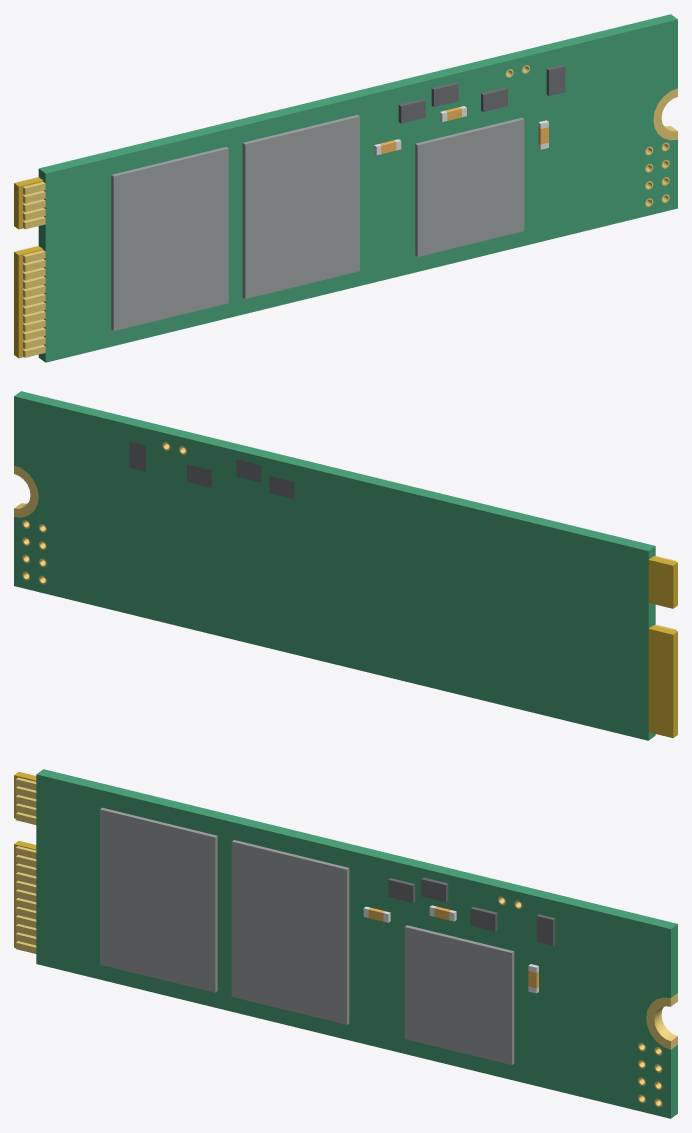
3 renders of one model, top to bottom at view 1: azimuth 30°, elevation 25°; view 2: azimuth 150°, elevation 25°; view 3: azimuth 330°, elevation 25°, orthographic.
Visible parts, largest first — view 1: Object_2, Object_8, Object_5, Object_7, Object_3, Object_6; view 2: Object_2, Object_3, Object_7, Object_5; view 3: Object_2, Object_8, Object_5, Object_7, Object_3, Object_6.
Part boxes in pixels (left/top/right/bottom): Object_2: left=38, top=14, right=677, bottom=362; Object_8: left=111, top=115, right=524, bottom=330; Object_5: left=23, top=65, right=677, bottom=357; Object_7: left=398, top=64, right=565, bottom=123; Object_3: left=14, top=177, right=43, bottom=358; Object_6: left=379, top=107, right=548, bottom=154; Object_2: left=14, top=391, right=655, bottom=740; Object_3: left=648, top=556, right=677, bottom=737; Object_7: left=129, top=442, right=294, bottom=498; Object_5: left=14, top=442, right=676, bottom=630; Object_2: left=36, top=769, right=677, bottom=1118; Object_8: left=100, top=807, right=514, bottom=1064; Object_5: left=15, top=777, right=677, bottom=1107; Object_7: left=388, top=877, right=555, bottom=945; Object_3: left=14, top=772, right=36, bottom=947; Object_6: left=368, top=906, right=538, bottom=988.
Size of the model in its own units: 80 by 22 by 2.
